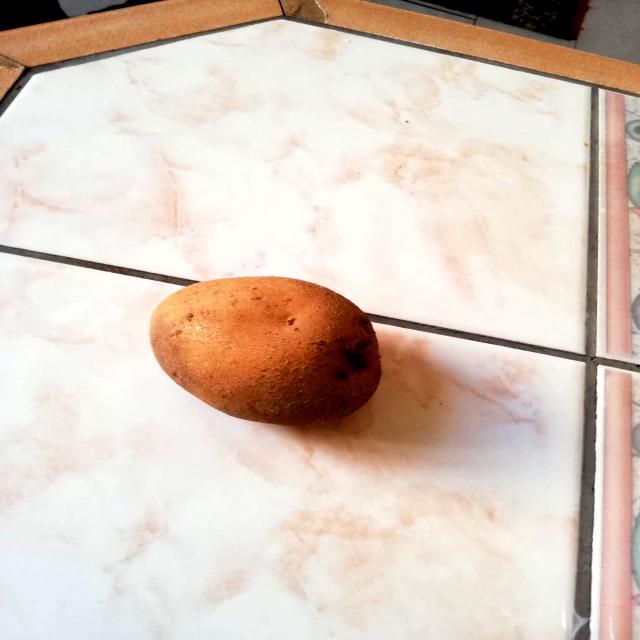potato: (143, 271, 389, 429)
